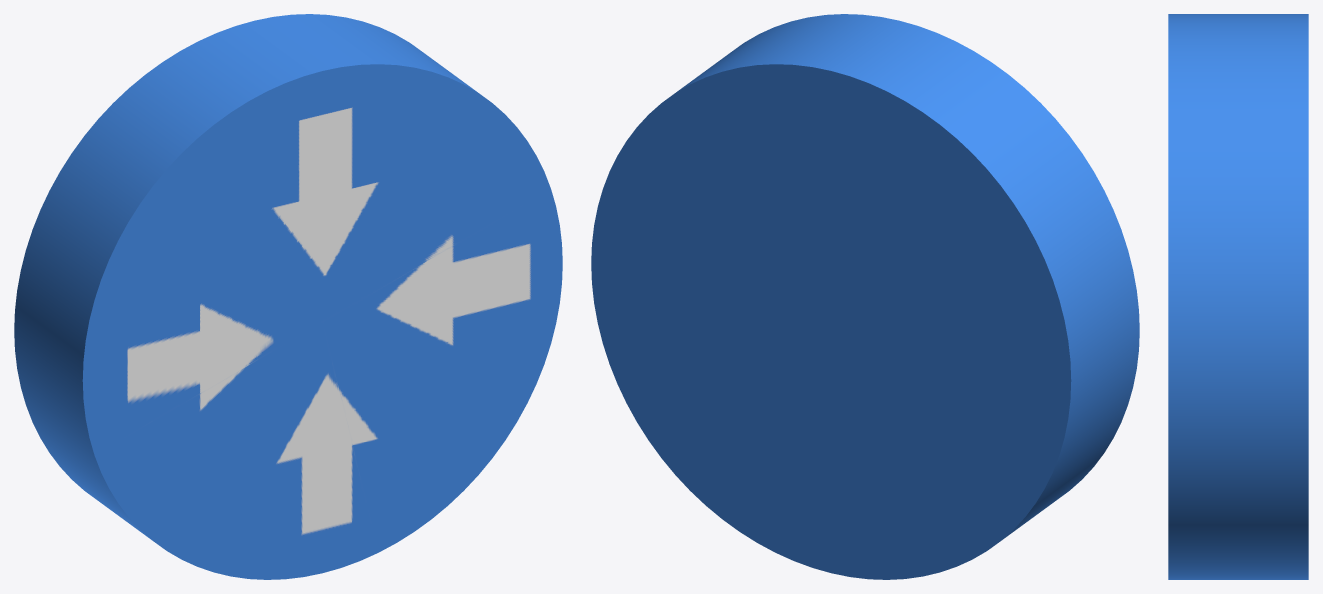
File: Router.glb
The picture shows the model from 3 angles, left to right: view 1: azimuth 30°, elevation 25°; view 2: azimuth 150°, elevation 25°; view 3: azimuth 270°, elevation 25°; orthographic projection. The views are drawn at different scales.
Parts seen in each view (by area): view 1: mesh_id53; view 2: mesh_id53; view 3: mesh_id53.
Part boxes in pixels (x1,y1,x2,y2): mesh_id53: (14,14,562,579); mesh_id53: (591,14,1139,579); mesh_id53: (1168,14,1308,579).
Size of the model in its own units: 0.3375 by 0.3375 by 0.0835.
1 material, 1 textured.
